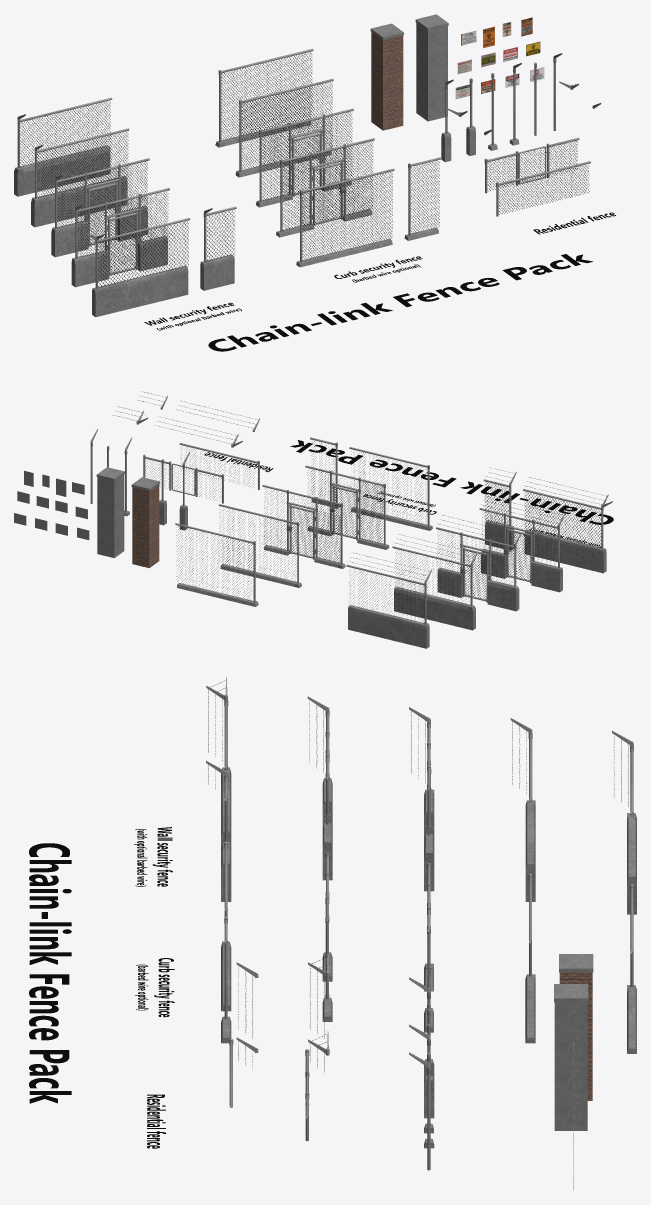
File: Chainlink_Fence_Pack.fbx
The picture shows the model from 3 angles, top to bottom: view 1: azimuth 30°, elevation 25°; view 2: azimuth 150°, elevation 25°; view 3: azimuth 270°, elevation 25°; orthographic projection. The views are drawn at different scales.
Visible parts, largest first — view 1: Wall_Straight, Wall_Corner_CW, Wall_Corner_CCW, Curb_Straight, Curb_Door_Straight, Wall_Door_Straight, Curb_Door_Corner, Wall_Door_Corner, Curb_Corner_CW, Curb_Corner_CCW, BrickCornerSpacer, ConcreteCornerSpacer (+9 smaller); view 2: Wall_Straight, Wall_Corner_CW, Wall_Corner_CCW, Curb_Door_Corner, Curb_Door_Straight, BrickCornerSpacer, ConcreteCornerSpacer, Wall_Door_Corner, Wall_Door_Straight, pPlane4, Curb_Corner_CW, Curb_Corner_CCW (+7 smaller); view 3: ConcreteCornerSpacer, pPlane4, BrickCornerSpacer, Wall_Door_Straight, Wall_Door_Corner, Wall_Corner_CCW, Wall_Corner_CW, Curb_Corner_CW, Curb_Corner_CCW, Curb_Door_Straight, pPlane1, Curb_Straight (+4 smaller).
Part boxes in pixels (x1,y1,x2,y2): Wall_Straight: [92, 218, 190, 317]; Wall_Corner_CW: [14, 97, 112, 196]; Wall_Corner_CCW: [31, 128, 129, 227]; Curb_Straight: [296, 168, 394, 267]; Curb_Door_Straight: [276, 138, 374, 237]; Wall_Door_Straight: [71, 188, 169, 287]; Curb_Door_Corner: [256, 108, 353, 207]; Wall_Door_Corner: [51, 158, 149, 257]; Curb_Corner_CW: [215, 48, 313, 147]; Curb_Corner_CCW: [235, 78, 333, 177]; BrickCornerSpacer: [370, 23, 403, 130]; ConcreteCornerSpacer: [415, 14, 448, 121]; Wall_Straight: [523, 489, 606, 573]; Wall_Corner_CW: [346, 564, 429, 648]; Wall_Corner_CCW: [392, 546, 475, 630]; Curb_Door_Corner: [262, 485, 345, 568]; Curb_Door_Straight: [305, 465, 389, 549]; BrickCornerSpacer: [131, 477, 159, 568]; ConcreteCornerSpacer: [96, 467, 124, 558]; Wall_Door_Corner: [436, 527, 519, 611]; Wall_Door_Straight: [479, 508, 562, 592]; pPlane4: [290, 440, 613, 524]; Curb_Corner_CW: [175, 523, 258, 606]; Curb_Corner_CCW: [218, 504, 301, 587]; ConcreteCornerSpacer: [554, 984, 588, 1130]; pPlane4: [29, 843, 71, 1103]; BrickCornerSpacer: [559, 954, 593, 1100]; Wall_Door_Straight: [322, 711, 332, 880]; Wall_Door_Corner: [424, 722, 434, 891]; Wall_Corner_CCW: [525, 733, 535, 901]; Wall_Corner_CW: [627, 746, 636, 914]; Curb_Corner_CW: [627, 884, 636, 1053]; Curb_Corner_CCW: [525, 873, 535, 1043]; Curb_Door_Straight: [322, 852, 332, 1021]; pPlane1: [134, 827, 172, 886]; Curb_Straight: [221, 841, 231, 1011].
Size of the model in its own units: 1881 by 290 by 1228.
5 materials, 5 textured.
